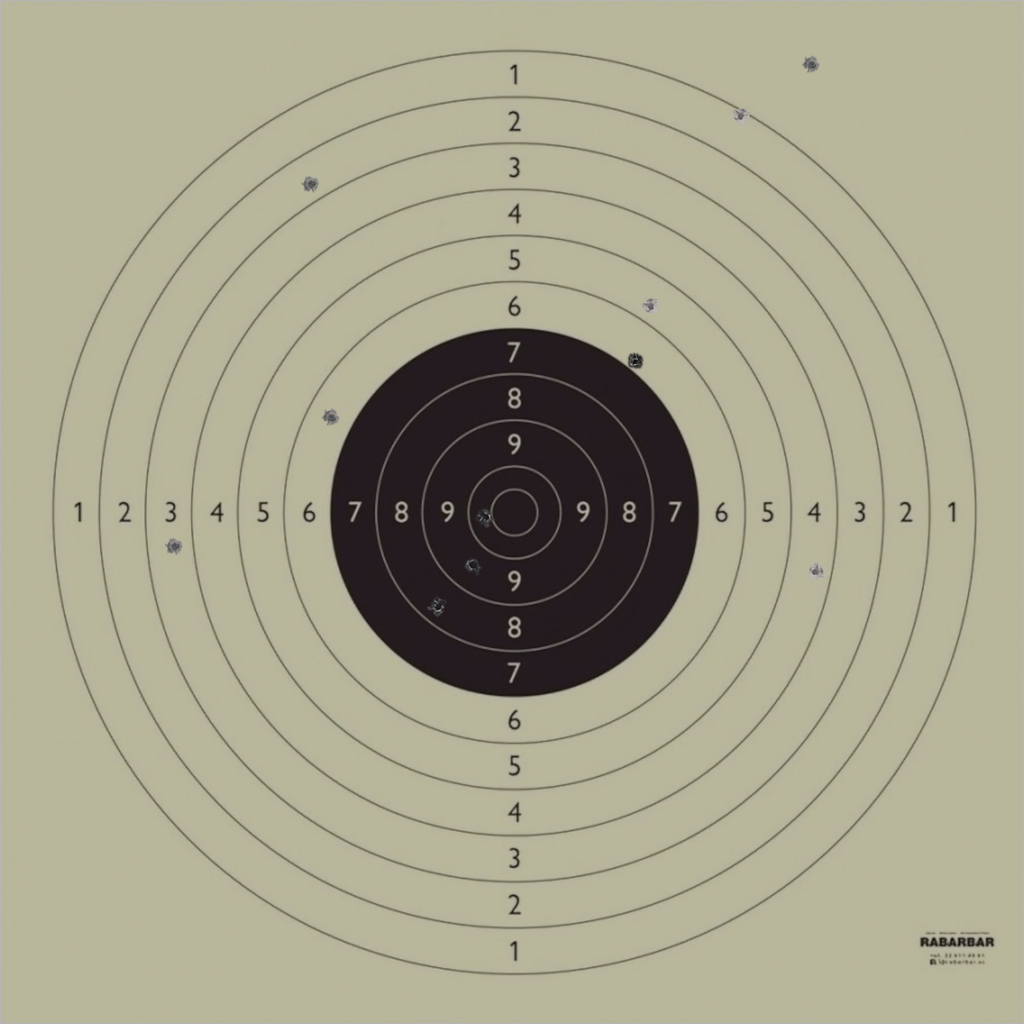0 punktow: (802, 56, 821, 74)
1 punkt: (731, 107, 750, 125)
10 punktow: (477, 508, 495, 527)
2 punkty: (302, 175, 320, 193)
3 punkty: (166, 537, 184, 556)
4 punkty: (806, 563, 825, 581)
5 punktow: (641, 297, 660, 316)
6 punktow: (322, 409, 341, 427)
7 punktow: (626, 353, 644, 371)
8 punktow: (429, 597, 448, 615)
9 punktow: (464, 556, 482, 575)
